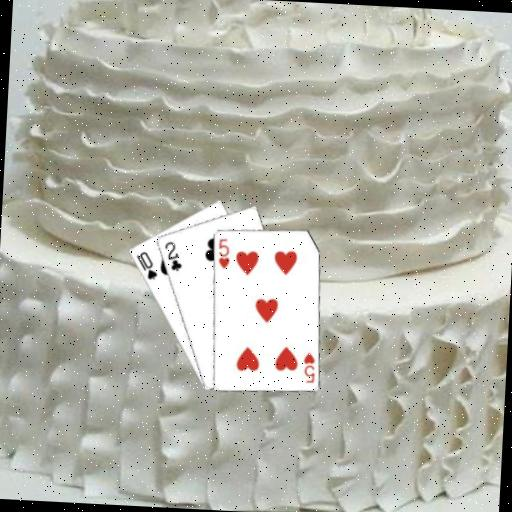10S: (132, 247, 160, 281)
2C: (160, 238, 185, 273)
5H: (300, 349, 318, 385), (214, 234, 231, 270)
